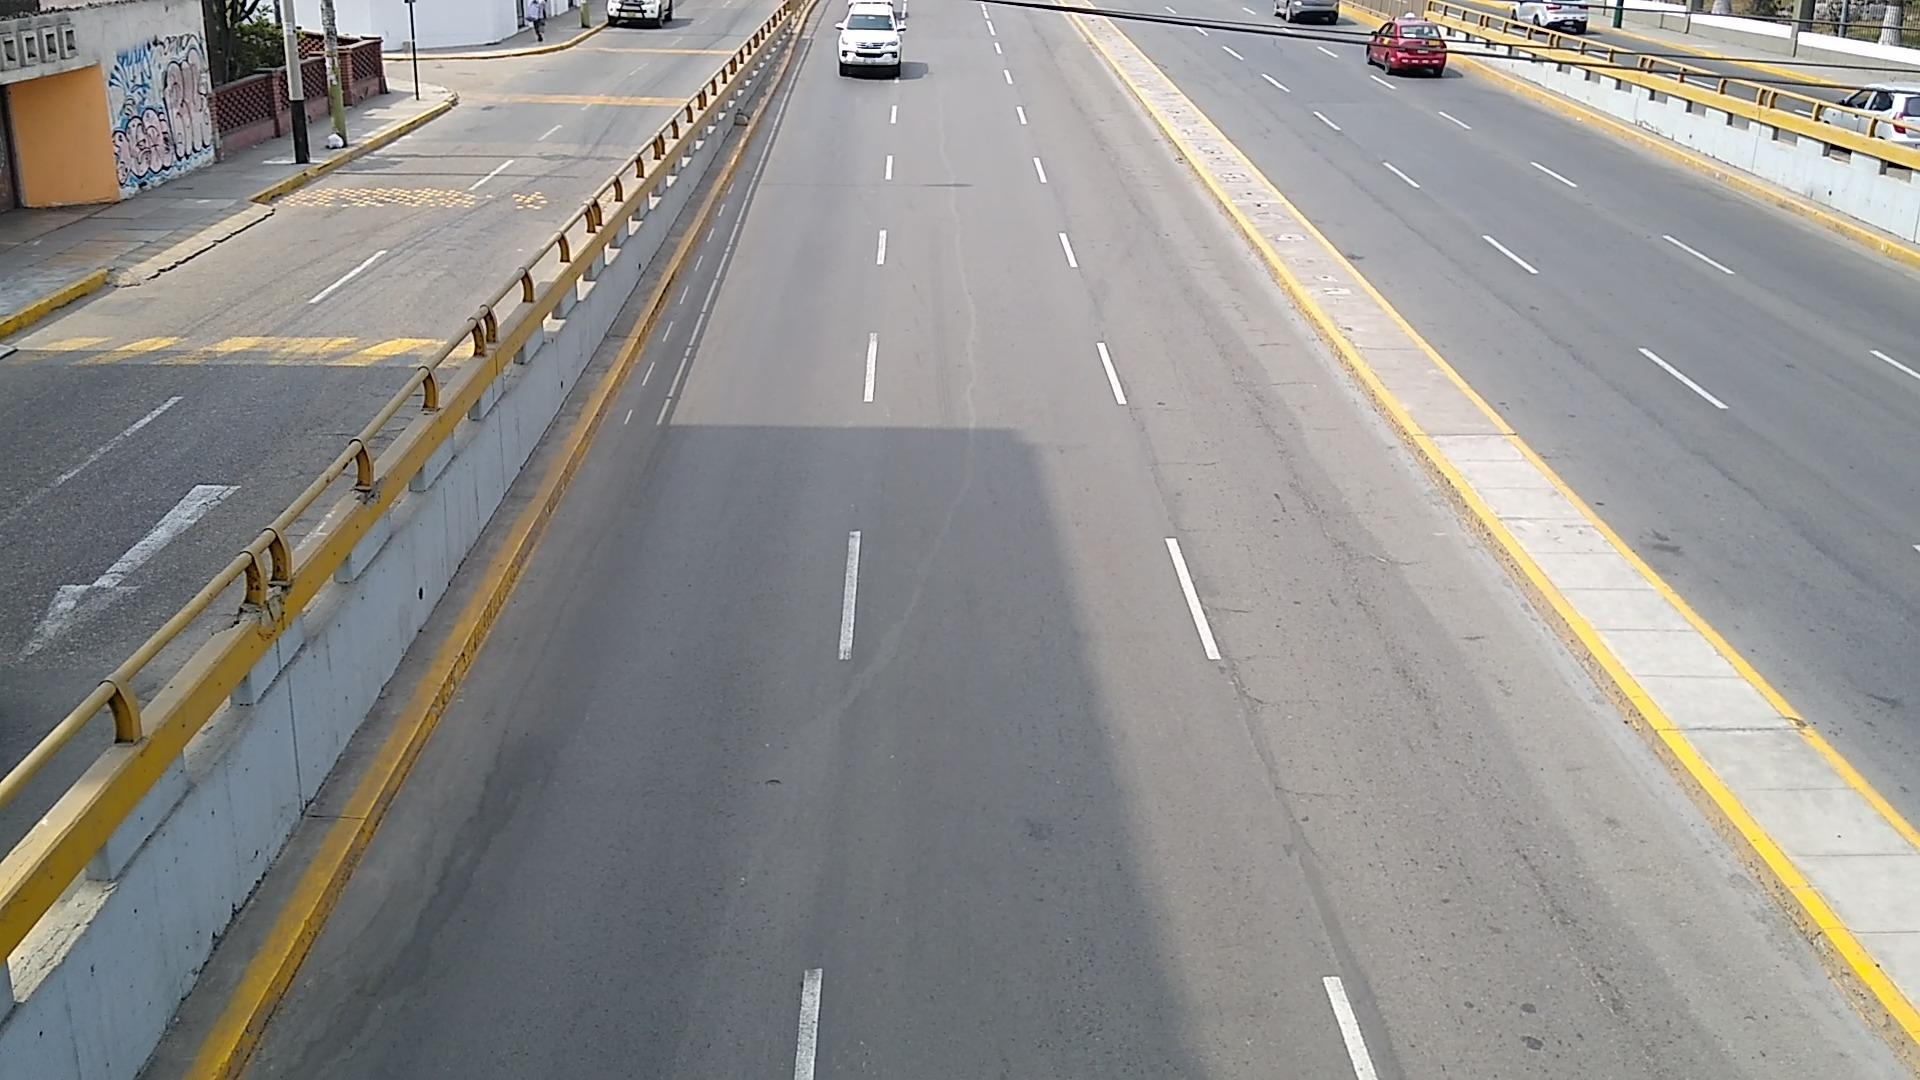car: (836, 0, 903, 79), (1365, 15, 1448, 75), (836, 0, 899, 75)
